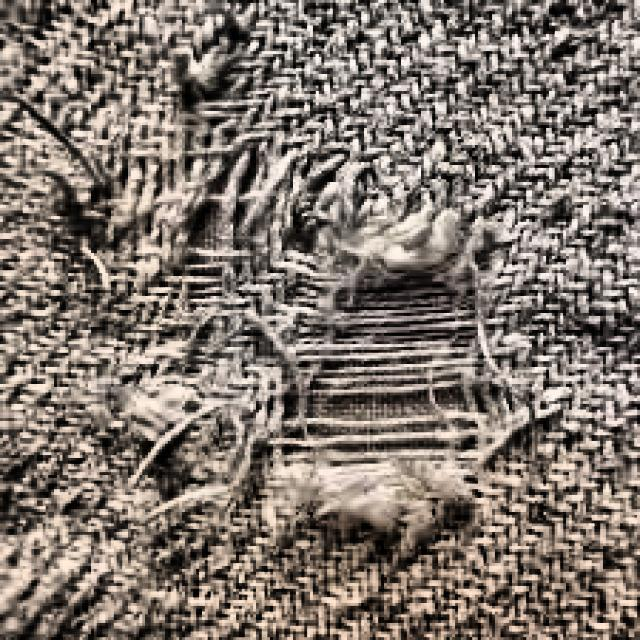cut: (110, 120, 583, 575)
